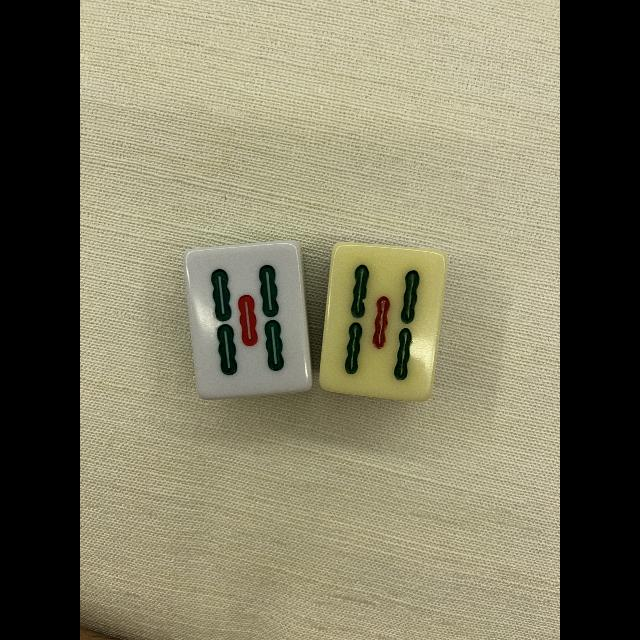b5: (193, 247, 304, 391), (328, 246, 432, 394)
